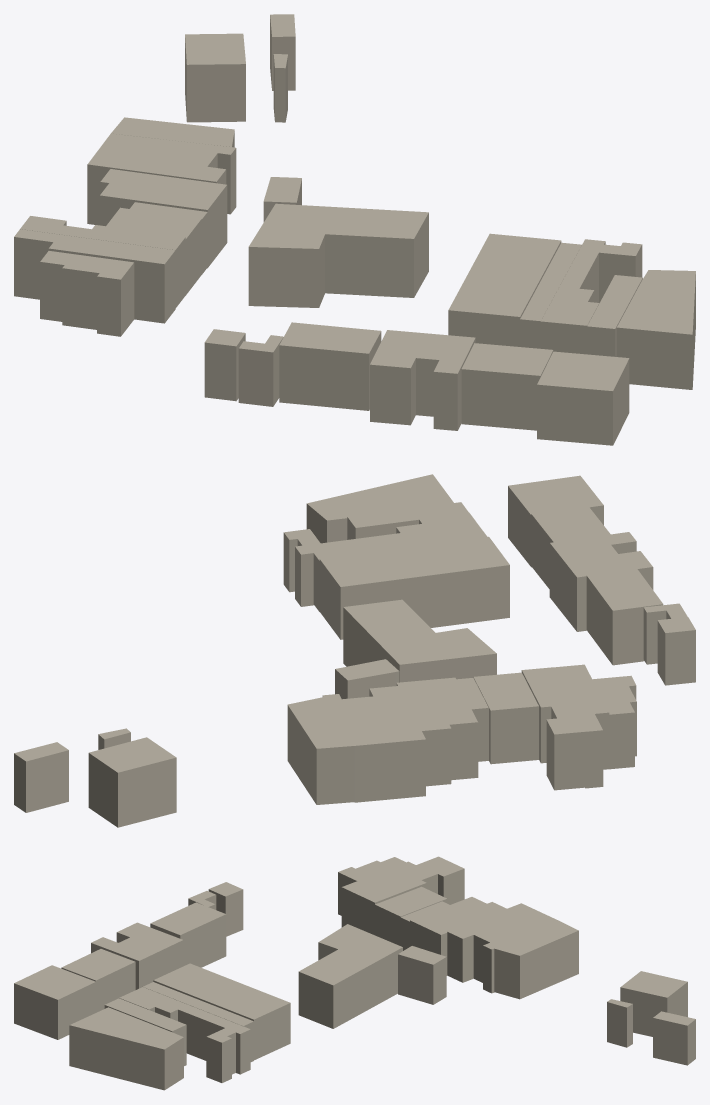
Rendered from kalkara_68_29_collision.glb.
3 renders of one model, top to bottom at view 1: azimuth 30°, elevation 25°; view 2: azimuth 150°, elevation 25°; view 3: azimuth 270°, elevation 25°, orthographic. The views are drawn at different scales.
Parts seen in each view (by area): view 1: geometry_0; view 2: geometry_0; view 3: geometry_0.
Boxes of the visible parts, box(x1,y1,x2,y2) form: geometry_0: box(14, 14, 695, 445); geometry_0: box(14, 474, 695, 827); geometry_0: box(14, 856, 695, 1090).
Size of the model in its own units: 99.69 by 14.27 by 160.
